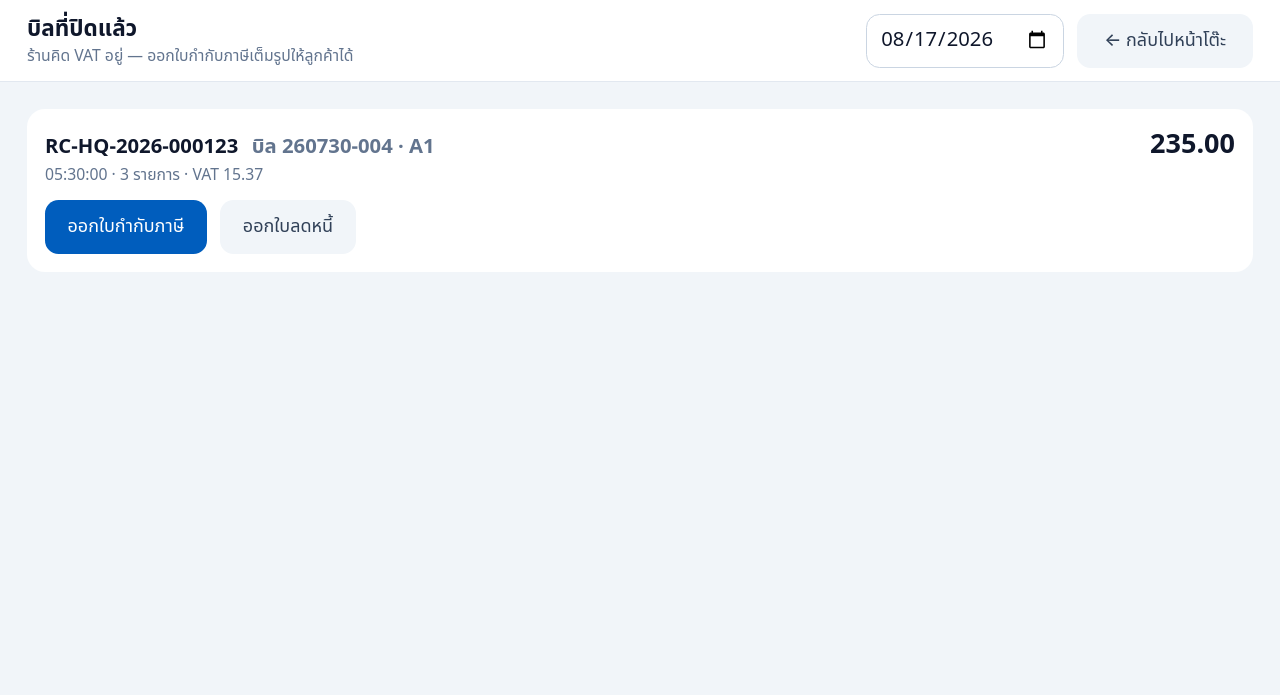
Test: asking for a full tax invoice › sends สำนักงานใหญ่ by default and reports the number it got back
Expected: the text "RC-HQ-2026-000123" is shown, 45,132 -> 238,162
Step 1. Click the button "ออกใบกำกับภาษี" → (126, 226), box 45,200 -> 207,254
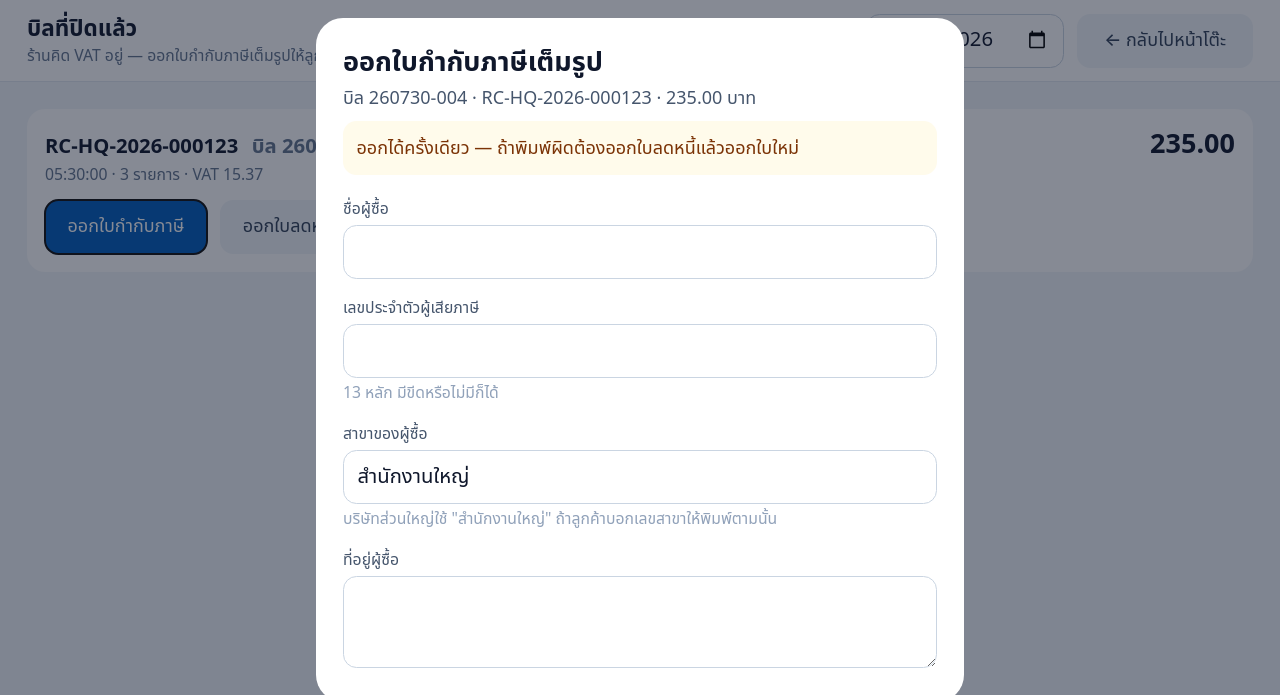
Step 2. Type "บริษัท ทดสอบ จำกัด" into the field labelled "ชื่อผู้ซื้อ" → (640, 252), box 343,225 -> 937,279
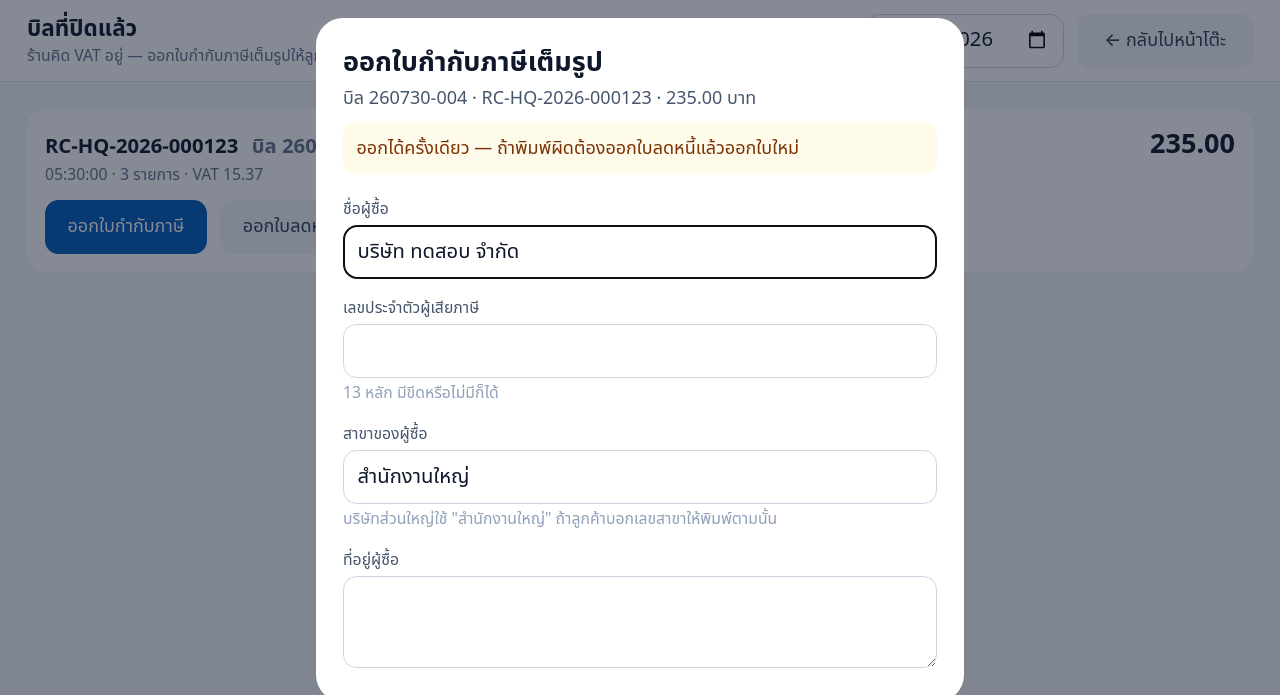
Step 3. Type "0105558123400" into the field labelled "เลขประจำตัวผู้เสียภาษี 13 หลัก มีขีดหรือไม่มีก็ได้" → (640, 351), box 343,324 -> 937,378
(page scrolled)
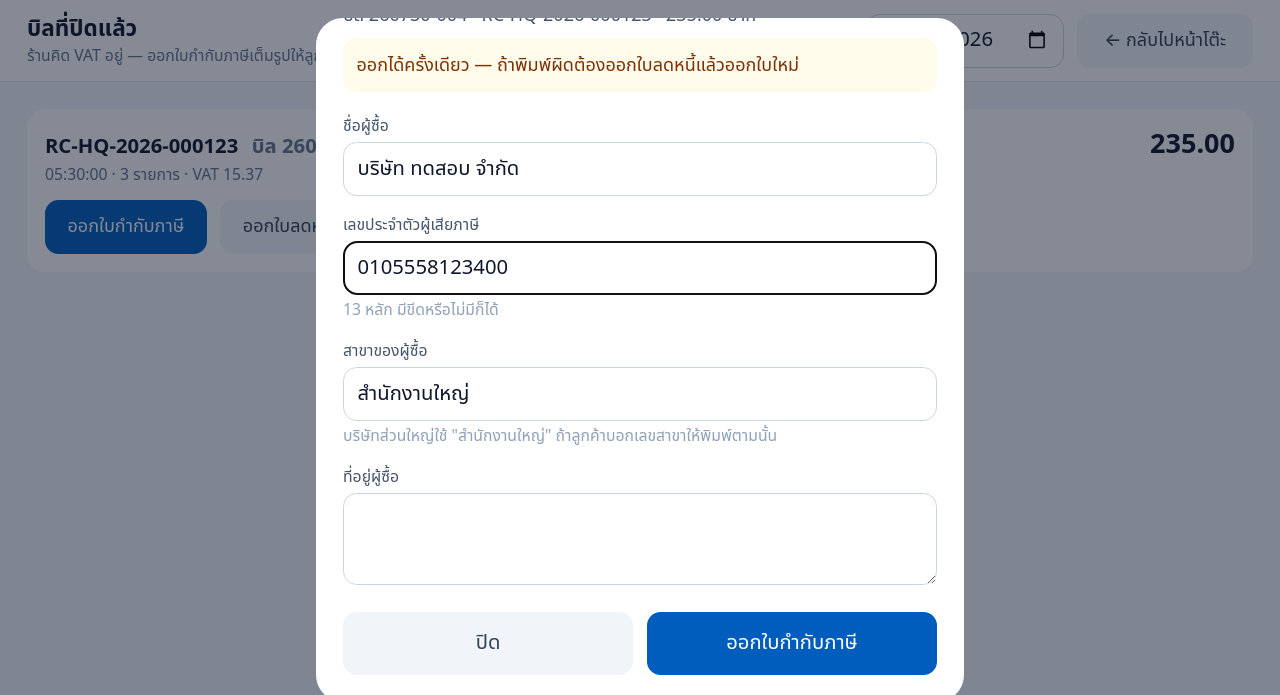
Step 4. Click the button "ออกใบกำกับภาษี" → (792, 644), box 647,612 -> 937,675
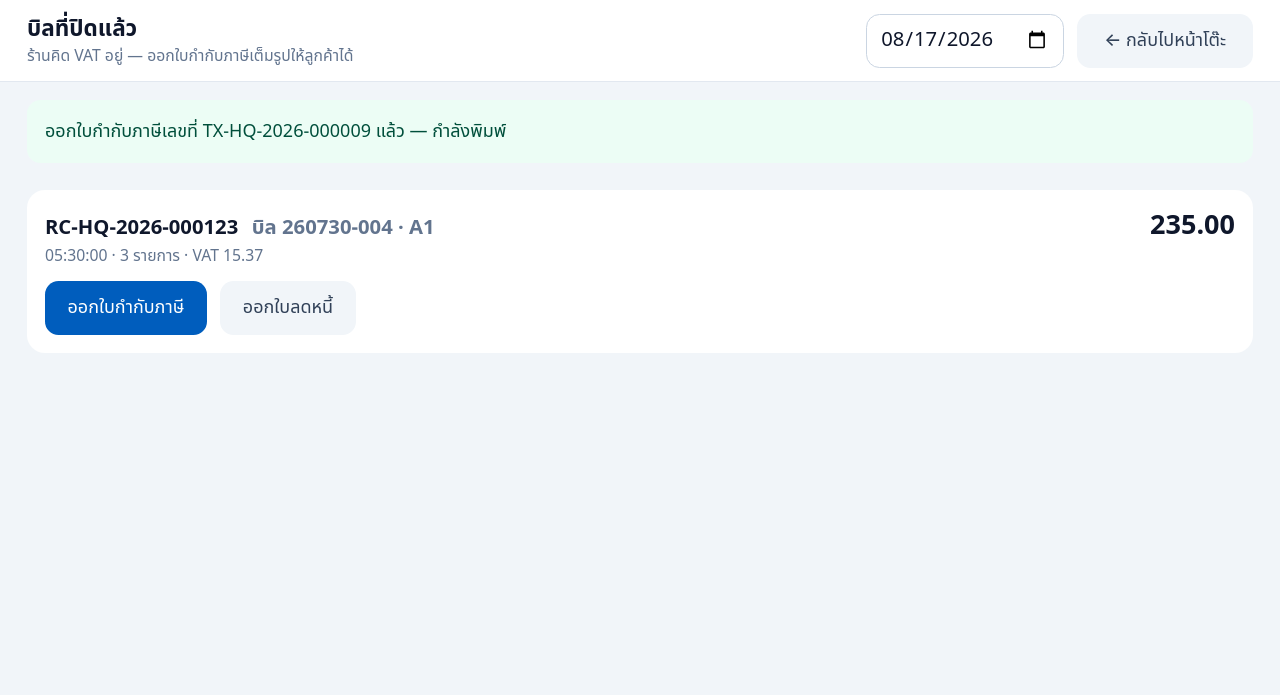
Now the text "ออกใบกำกับภาษีเลขที่ TX-HQ-2026-000009 แล้ว — กำลังพิมพ์" is shown, box 27,100 -> 1253,163
